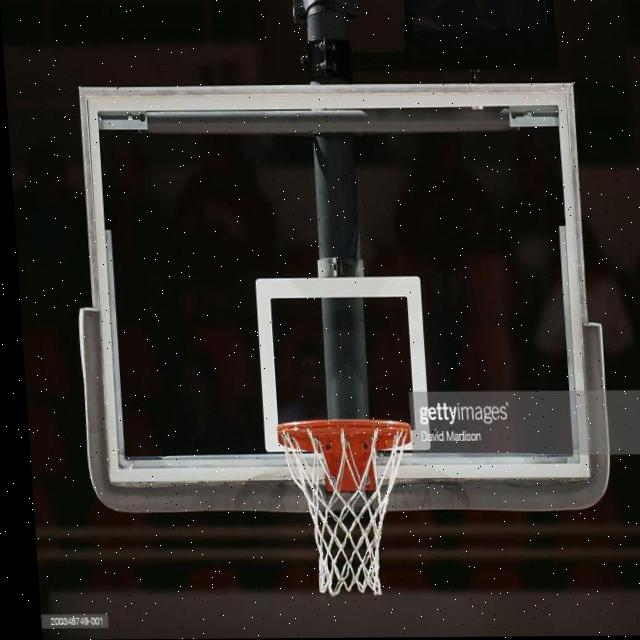hoop: (276, 418, 423, 597)
